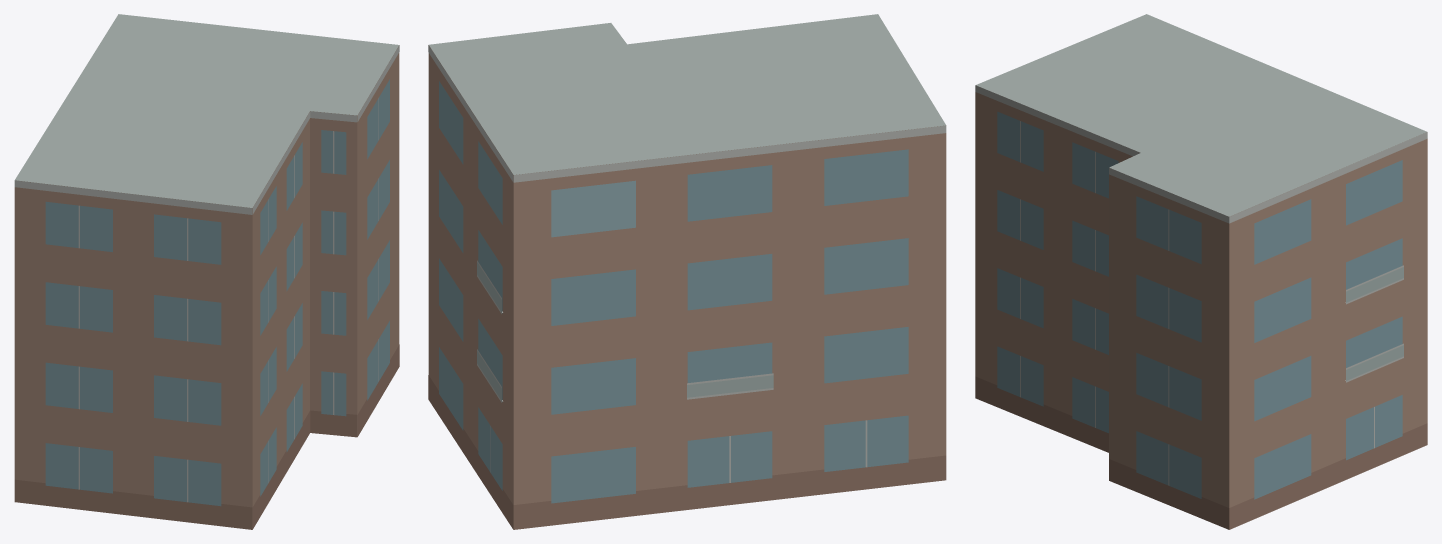
The model's file is survey-upis-32938341.glb.
The picture shows the model from 3 angles, left to right: view 1: azimuth 30°, elevation 25°; view 2: azimuth 150°, elevation 25°; view 3: azimuth 270°, elevation 25°; orthographic projection. The views are drawn at different scales.
Visible parts, largest first — view 1: survey-upis-32938341.tmp; view 2: survey-upis-32938341.tmp; view 3: survey-upis-32938341.tmp.
Part boxes in pixels (x1,y1,x2,y2): survey-upis-32938341.tmp: (14, 14, 399, 529); survey-upis-32938341.tmp: (428, 14, 946, 529); survey-upis-32938341.tmp: (975, 14, 1427, 529).
Bounding box in the file's own units: 15.71 × 11.3 × 14.8.
